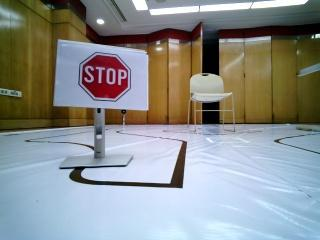stop: (59, 46, 145, 114)
